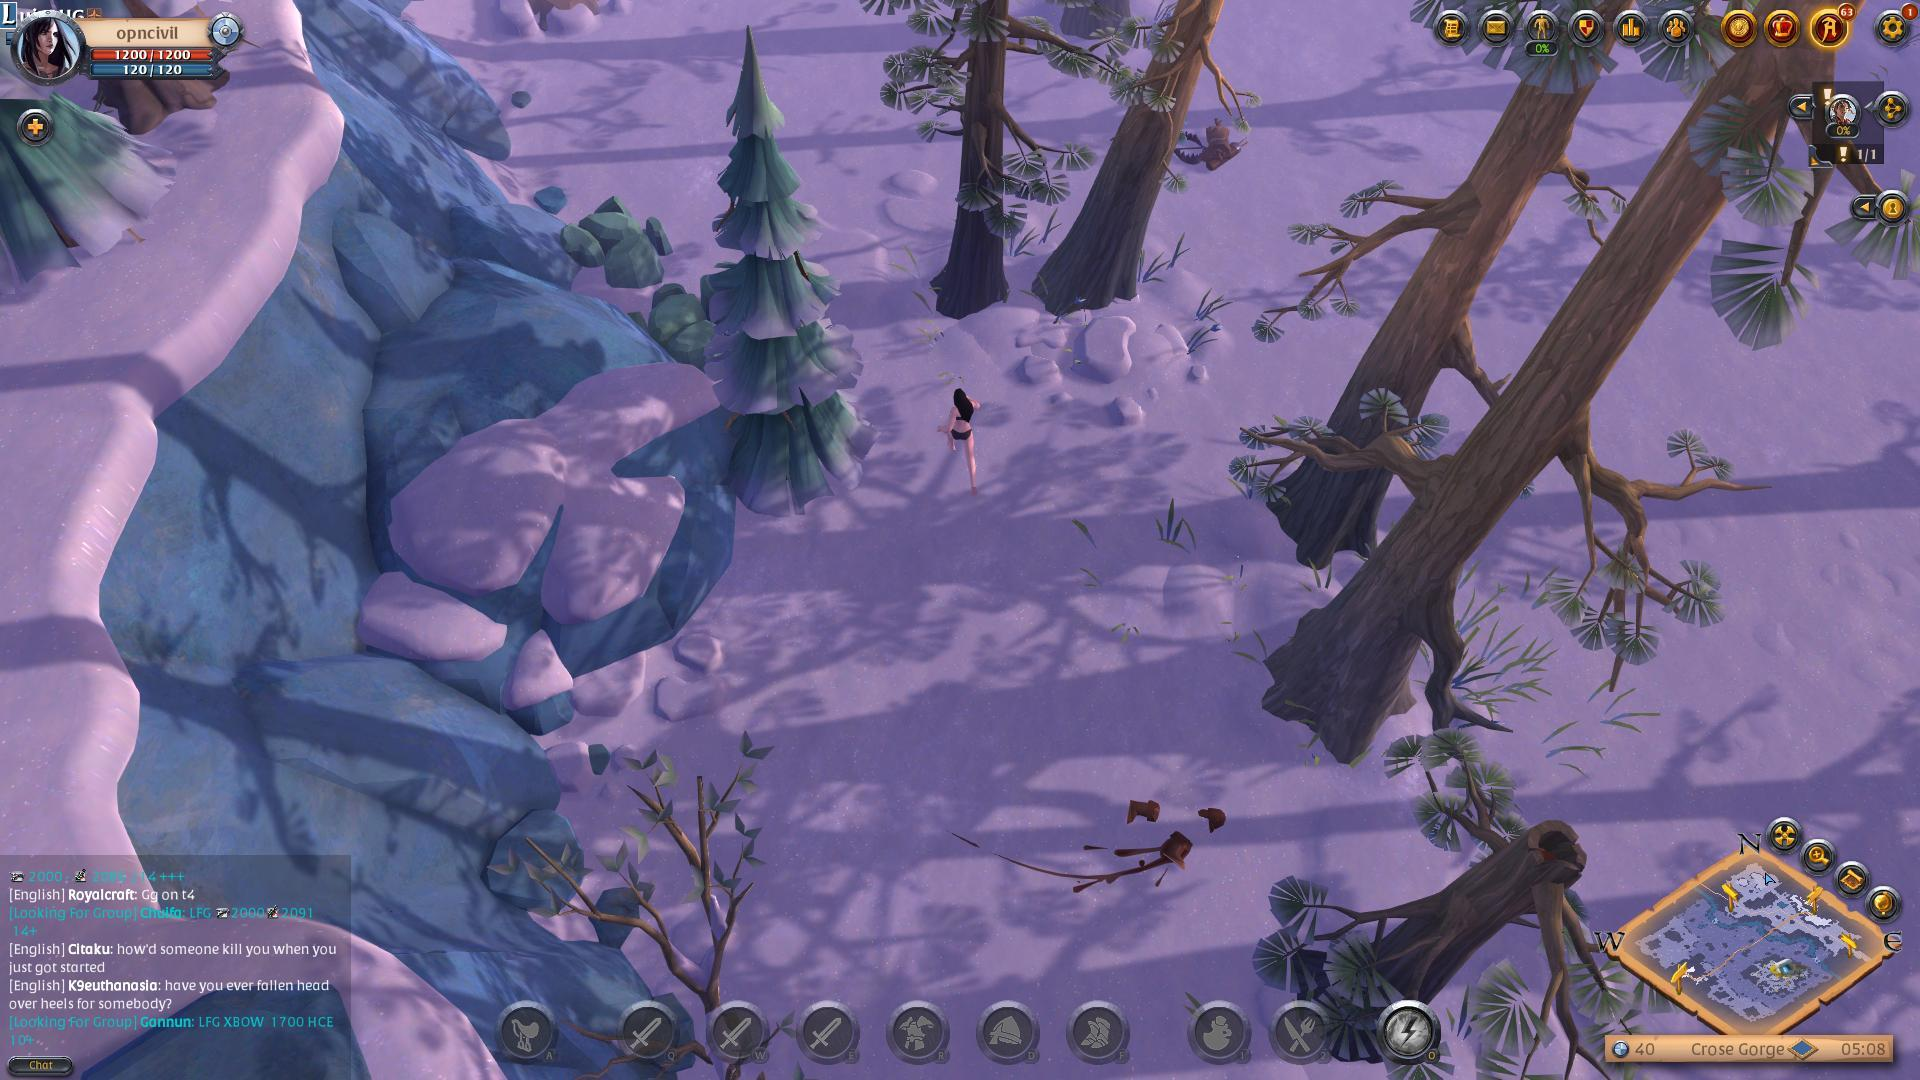sandstone: (553, 193, 671, 287), (633, 280, 716, 364)
